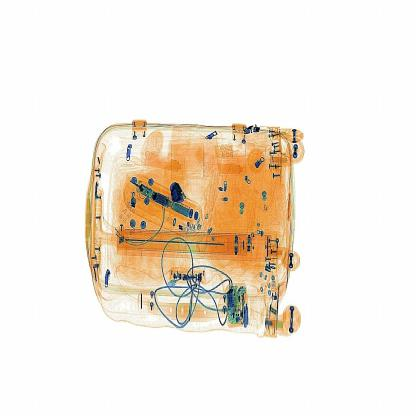scissors: (166, 176, 198, 210)
